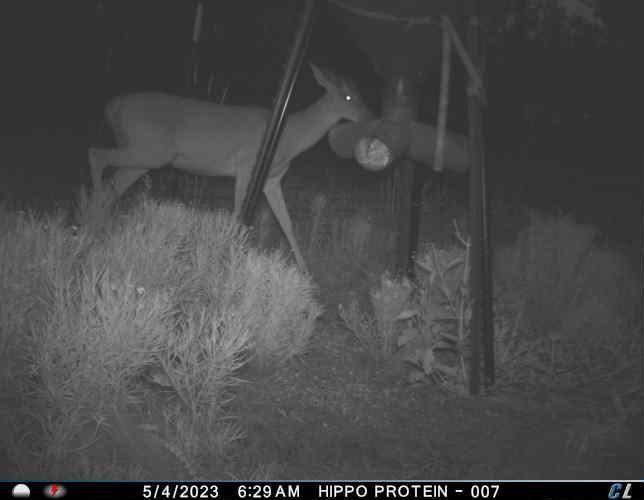Deer: (85, 59, 376, 277)
